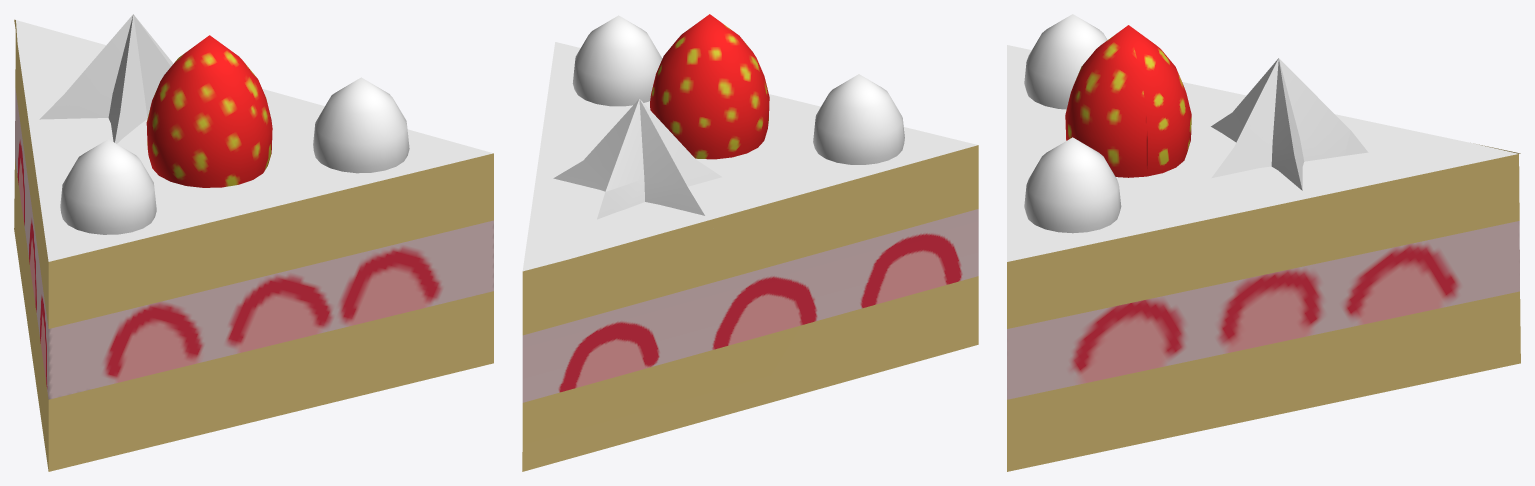
Rendered from shorCake_2.fbx.
3 views of the same model, side by side, from view 1: azimuth 30°, elevation 25°; view 2: azimuth 150°, elevation 25°; view 3: azimuth 270°, elevation 25° (orthographic). The views are drawn at different scales.
Parts seen in each view (by area): view 1: polySurface10.001; view 2: polySurface10.001; view 3: polySurface10.001.
Part boxes in pixels (x1,y1,x2,y2): polySurface10.001: [14, 14, 493, 471]; polySurface10.001: [522, 14, 978, 471]; polySurface10.001: [1007, 14, 1520, 471].
Bounding box in the file's own units: 6.52 × 4.73 × 6.52.
1 material, 1 textured.
